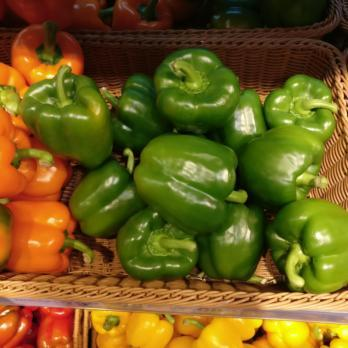Capsicum: (0, 54, 348, 286), (0, 305, 348, 348), (152, 47, 246, 131), (10, 22, 82, 84)
